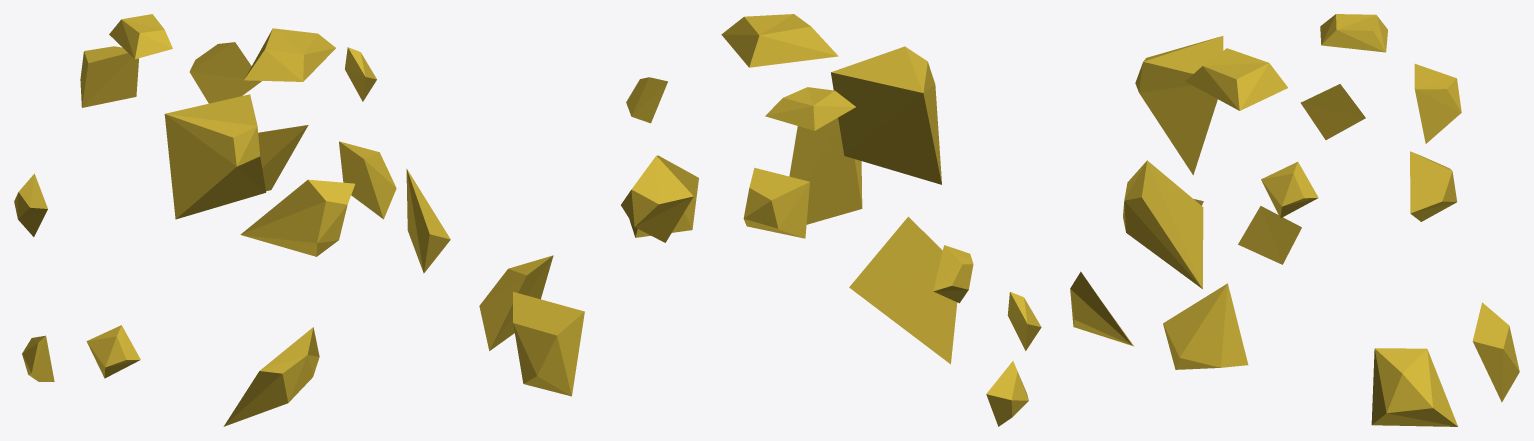
Rendered from GoldOreA.fbx.
The picture shows the model from 3 angles, left to right: view 1: azimuth 30°, elevation 25°; view 2: azimuth 150°, elevation 25°; view 3: azimuth 270°, elevation 25°; orthographic projection. The views are drawn at different scales.
Visible parts, largest first — view 1: GoldOreA; view 2: GoldOreA; view 3: GoldOreA.
Part boxes in pixels (<box>): GoldOreA: <box>14,14,450,426</box>; GoldOreA: <box>479,14,1041,426</box>; GoldOreA: <box>1070,14,1519,426</box>.
Size of the model in its own units: 53.76 by 39.01 by 46.41.
